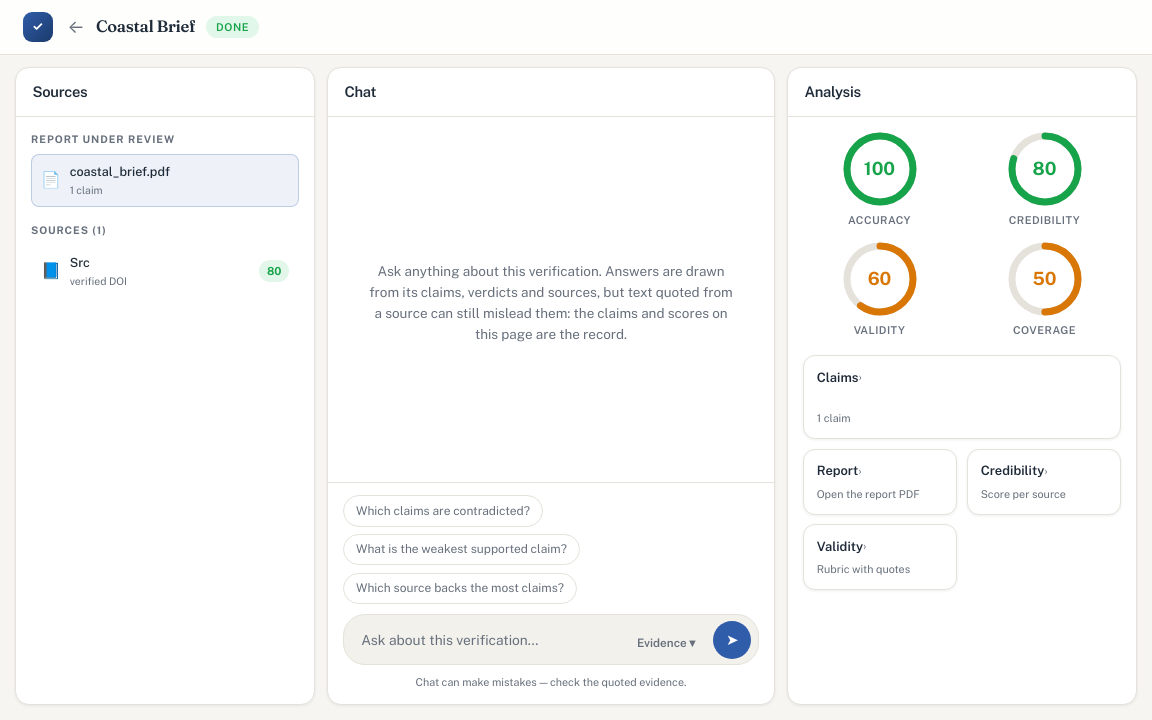
RunView › keeps chat errors out of the message history
Type "why?" into the text box with placeholder "Ask about this verification…".
click(490, 641); type("why?")  # box top-left (361, 624), bottom-right (619, 658)
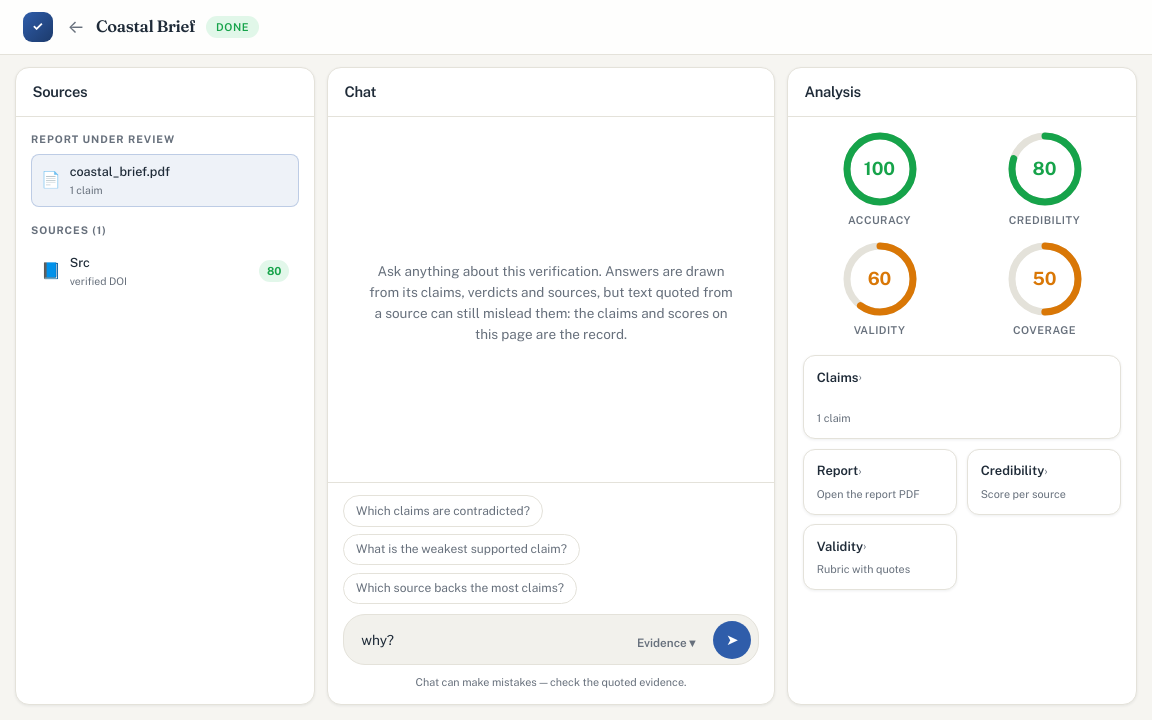
Press Enter in the text box with placeholder "Ask about this verification…", box top-left (361, 624), bottom-right (619, 658)
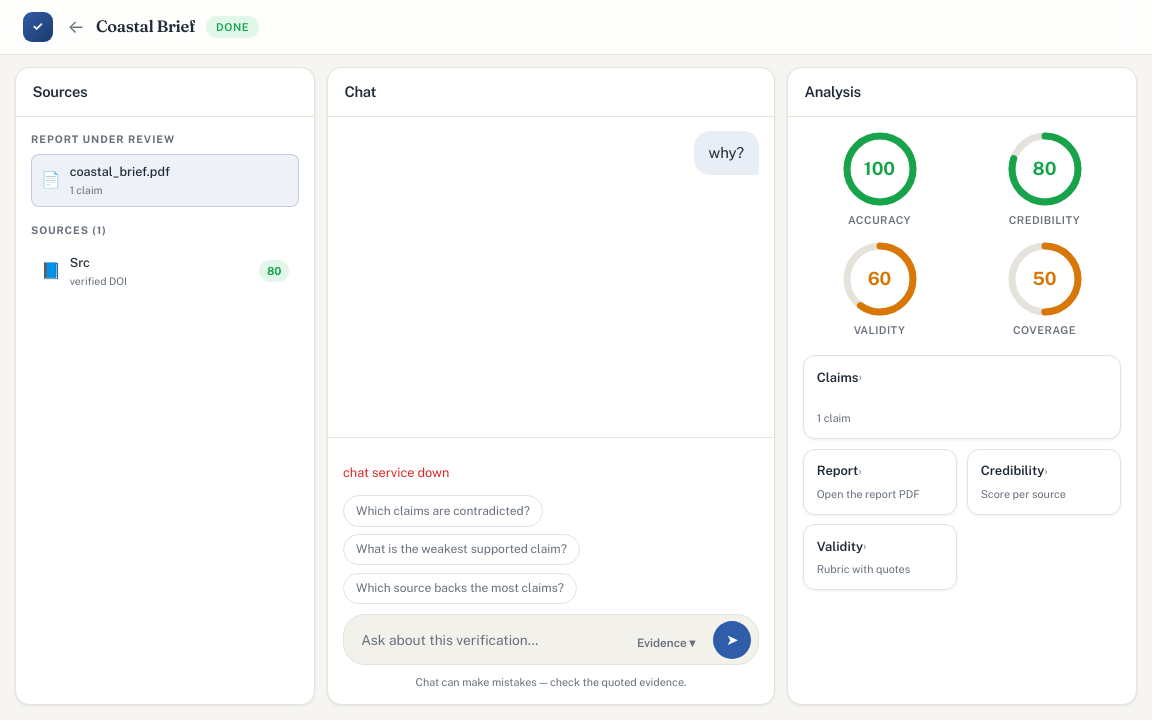
Now the text "chat service down" is shown, box top-left (343, 465), bottom-right (449, 480)
Now the text "why?" is shown, box top-left (694, 131), bottom-right (759, 175)
